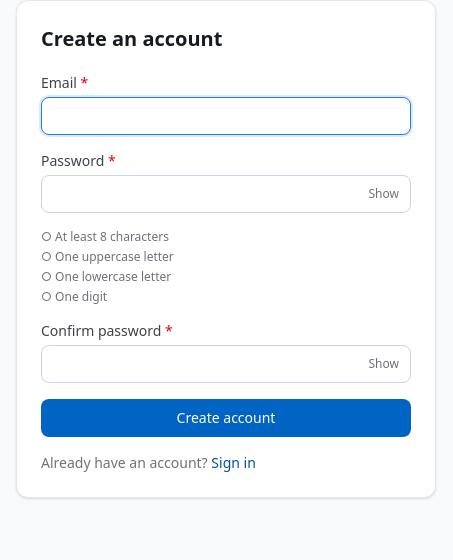
it: RegisterPage › renders every chained password message from the server
Type "newuser@example.com" into the field labelled "Email *" at coordinates (226, 116), box [41,97,411,135]
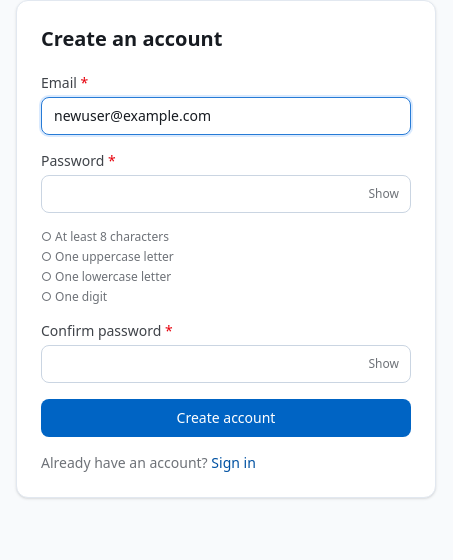
Type "Str0ngPassw0rd" into the password field labelled "Password *" at coordinates (226, 194), box [41,175,411,213]
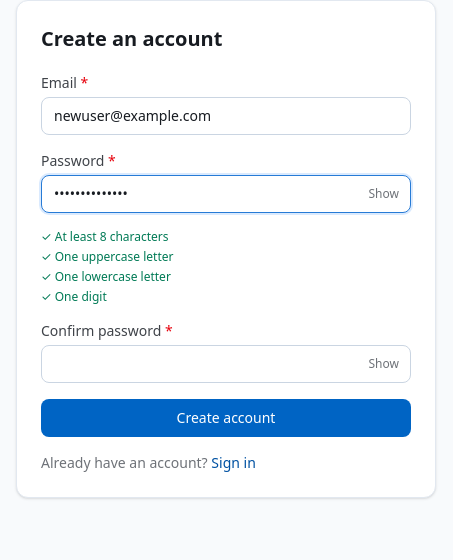
Type "Str0ngPassw0rd" into the password field labelled "Confirm password *" at coordinates (226, 364), box [41,345,411,383]
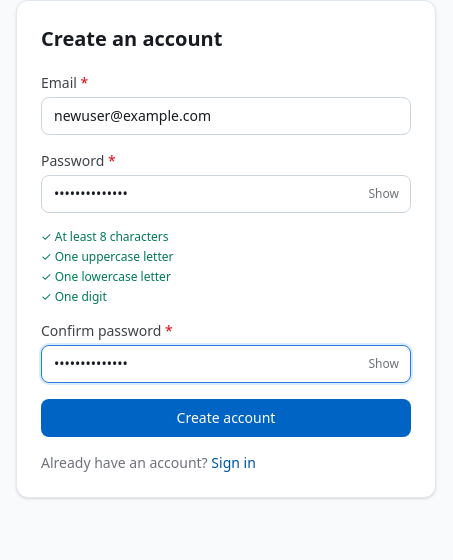
Click the button "Create account" at coordinates (226, 418), box [41,399,411,437]
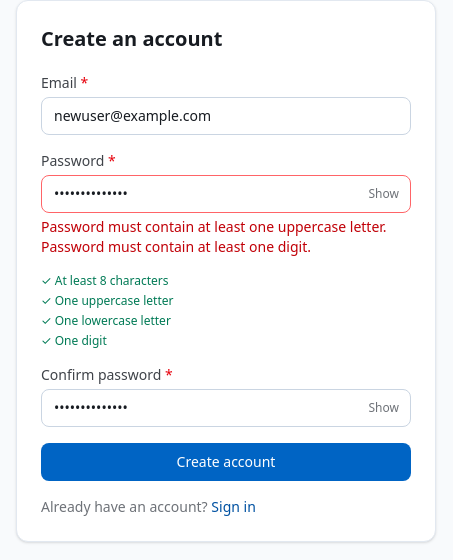
Check: the text "Password must contain at least one uppercase letter. Password must contain at least one digit." is shown, box [41,217,387,256]
